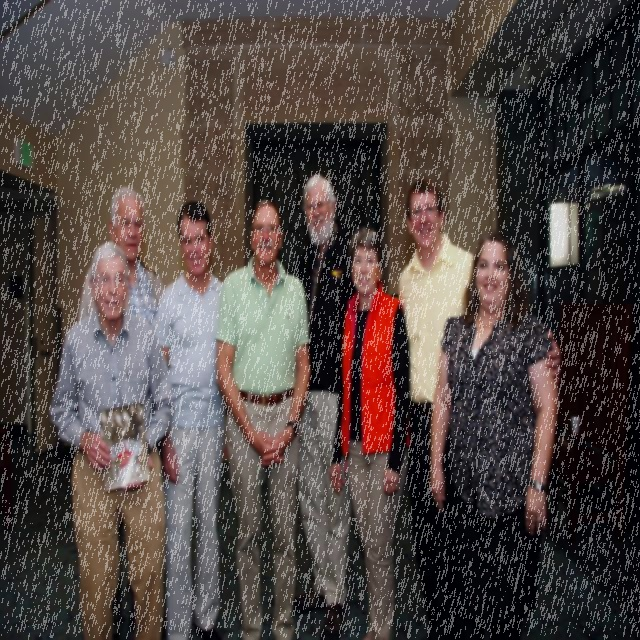pessoa: (397, 178, 561, 626), (426, 223, 564, 639), (44, 232, 178, 640), (210, 188, 316, 640), (78, 185, 170, 639), (326, 223, 412, 639), (155, 199, 232, 639), (288, 172, 359, 636)
